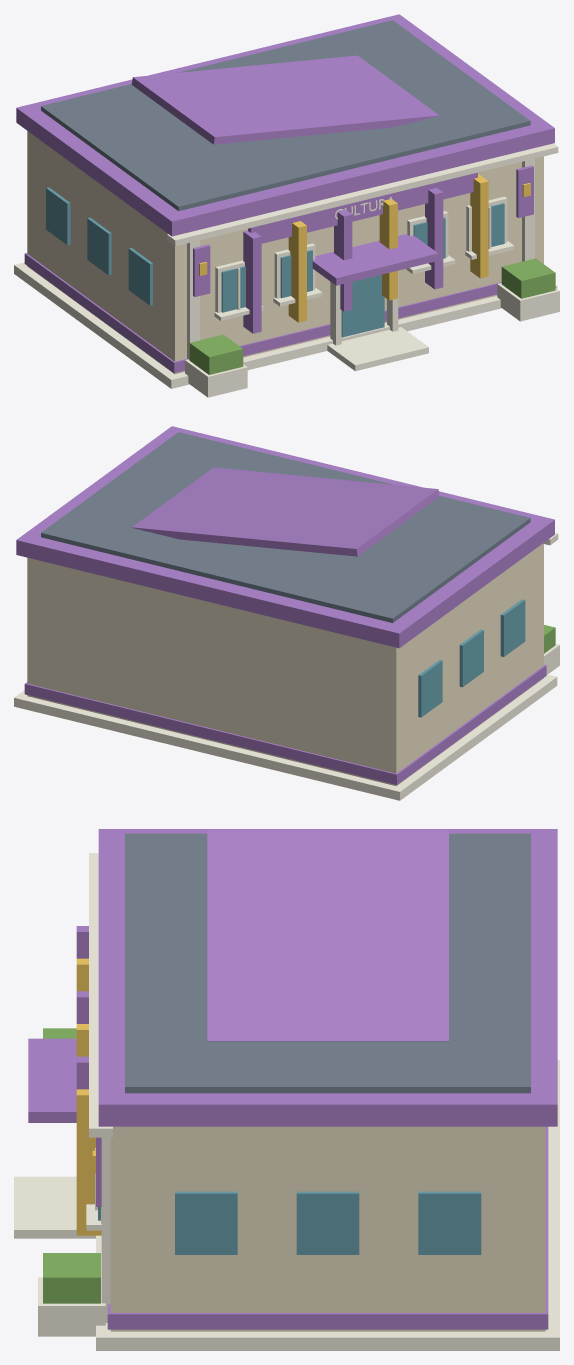
Rendered from cultural.glb.
3 renders of one model, top to bottom at view 1: azimuth 30°, elevation 25°; view 2: azimuth 150°, elevation 25°; view 3: azimuth 270°, elevation 25°, orthographic. The views are drawn at different scales.
Parts seen in each view (by area): view 1: Foundation; view 2: Foundation; view 3: Foundation.
Boxes of the visible parts, left/top/right/bottom form: Foundation: left=14, top=14, right=559, bottom=397; Foundation: left=14, top=426, right=559, bottom=800; Foundation: left=14, top=829, right=559, bottom=1350.
Size of the model in its own units: 13.6 by 6.88 by 11.3.
